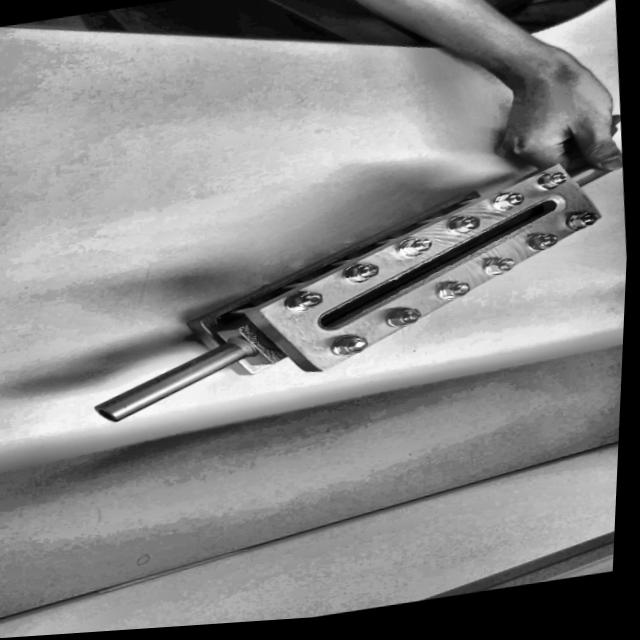ShuiWeiQi_12: (75, 168, 622, 431)
